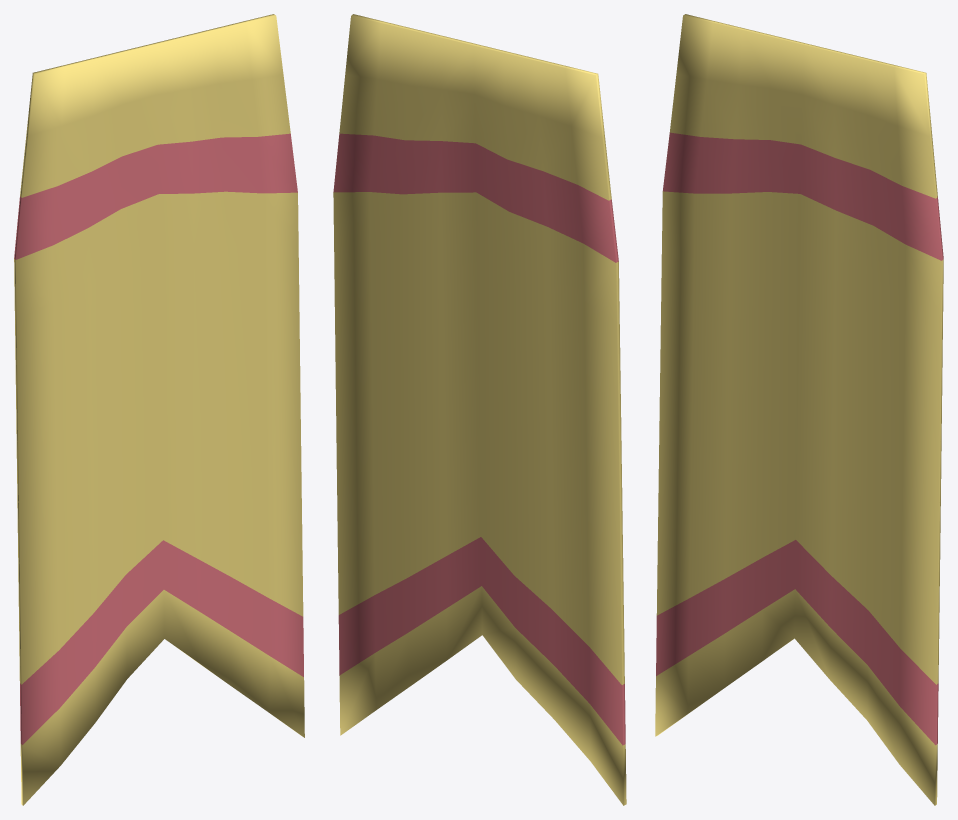
File: banner_yellow_b.glb
The picture shows the model from 3 angles, left to right: view 1: azimuth 30°, elevation 25°; view 2: azimuth 150°, elevation 25°; view 3: azimuth 330°, elevation 25°; orthographic projection.
Parts seen in each view (by area): view 1: banner_yellow_b; view 2: banner_yellow_b; view 3: banner_yellow_b.
Boxes of the visible parts, left/top/right/bottom form: banner_yellow_b: left=14, top=14, right=304, bottom=805; banner_yellow_b: left=333, top=14, right=626, bottom=805; banner_yellow_b: left=655, top=14, right=943, bottom=805.
Size of the model in its own units: 1.1 by 2.7 by 0.0904.
